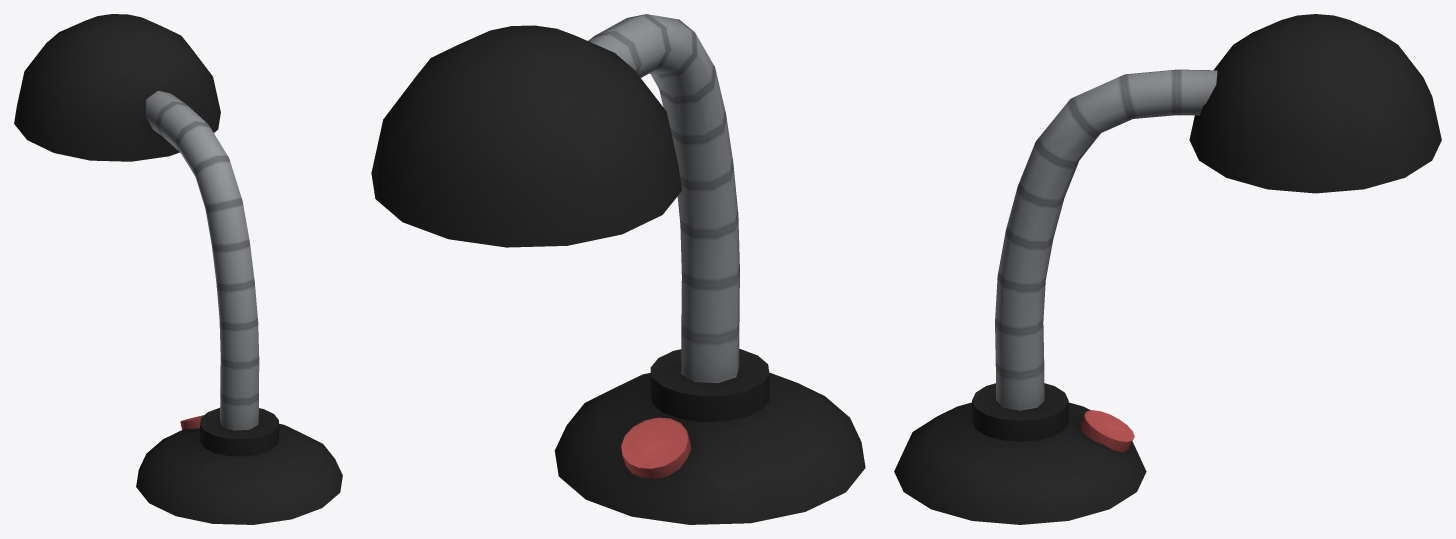
Rendered from Desk Lamp.fbx.
3 views of the same model, side by side, from view 1: azimuth 30°, elevation 25°; view 2: azimuth 150°, elevation 25°; view 3: azimuth 270°, elevation 25° (orthographic). The views are drawn at different scales.
Visible parts, largest first — view 1: DeskLamp; view 2: DeskLamp; view 3: DeskLamp.
Part boxes in pixels (box(x1,y1,x2,y2)): DeskLamp: box(14, 14, 342, 524); DeskLamp: box(371, 14, 865, 524); DeskLamp: box(894, 14, 1441, 524).
Bounding box in the file's own units: 36.52 × 32.8 × 16.83.
